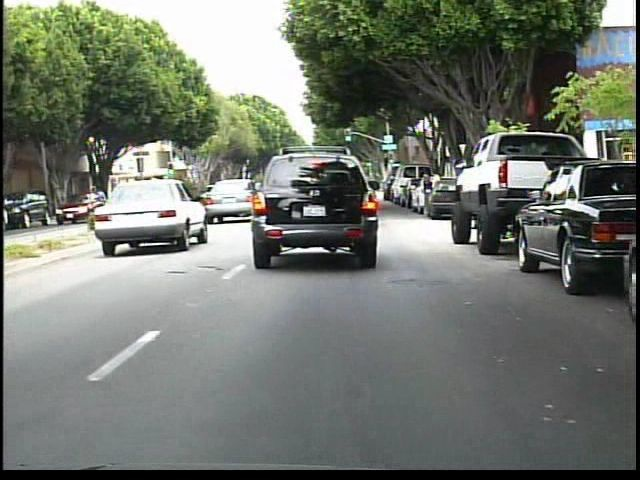person: (419, 172, 435, 221), (427, 166, 443, 210)
